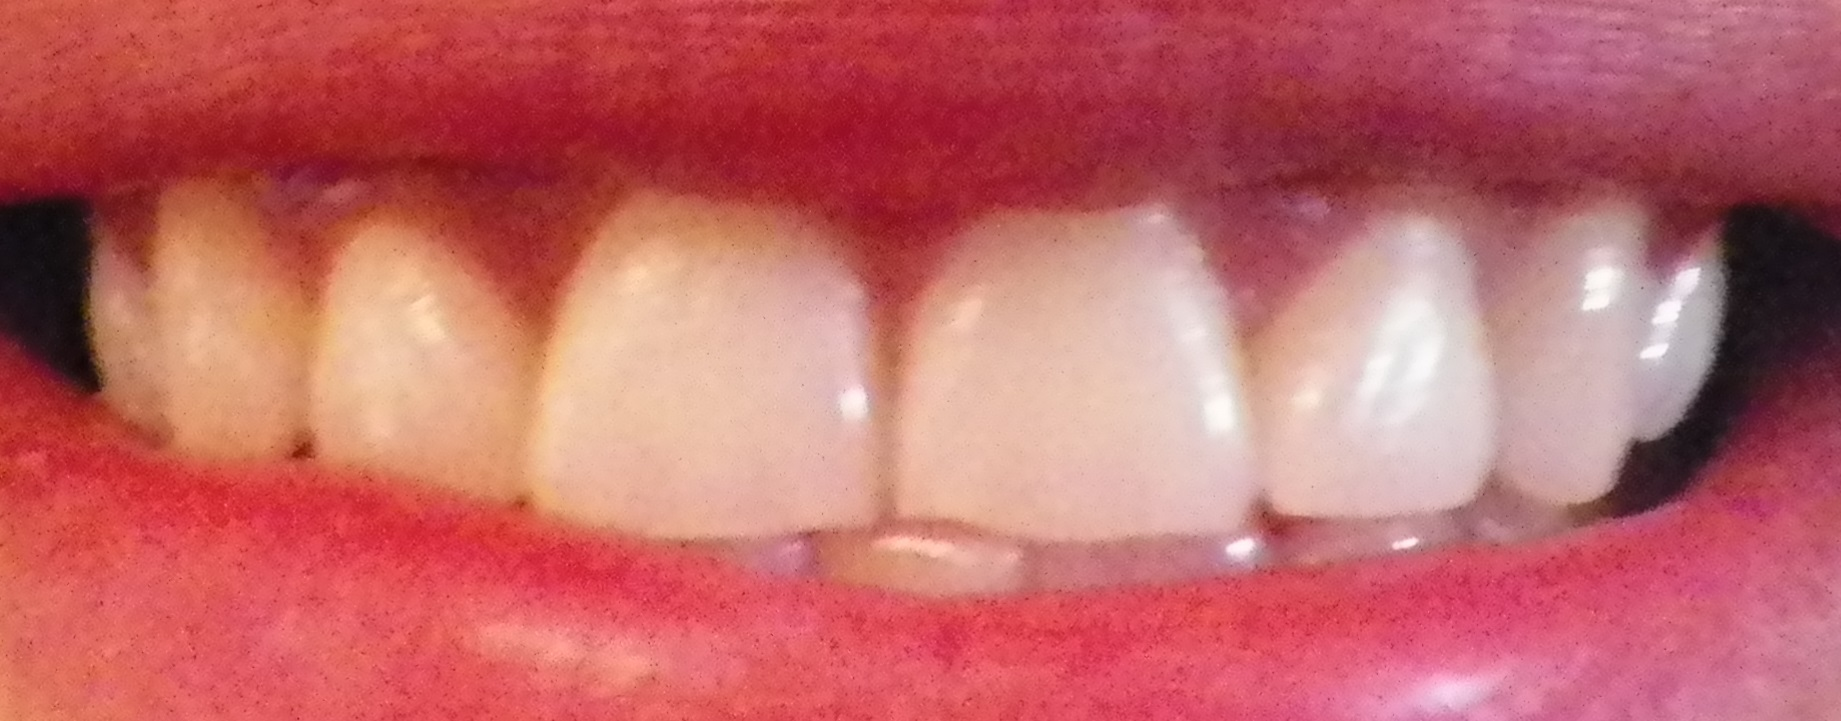boca: (87, 170, 1749, 597)
